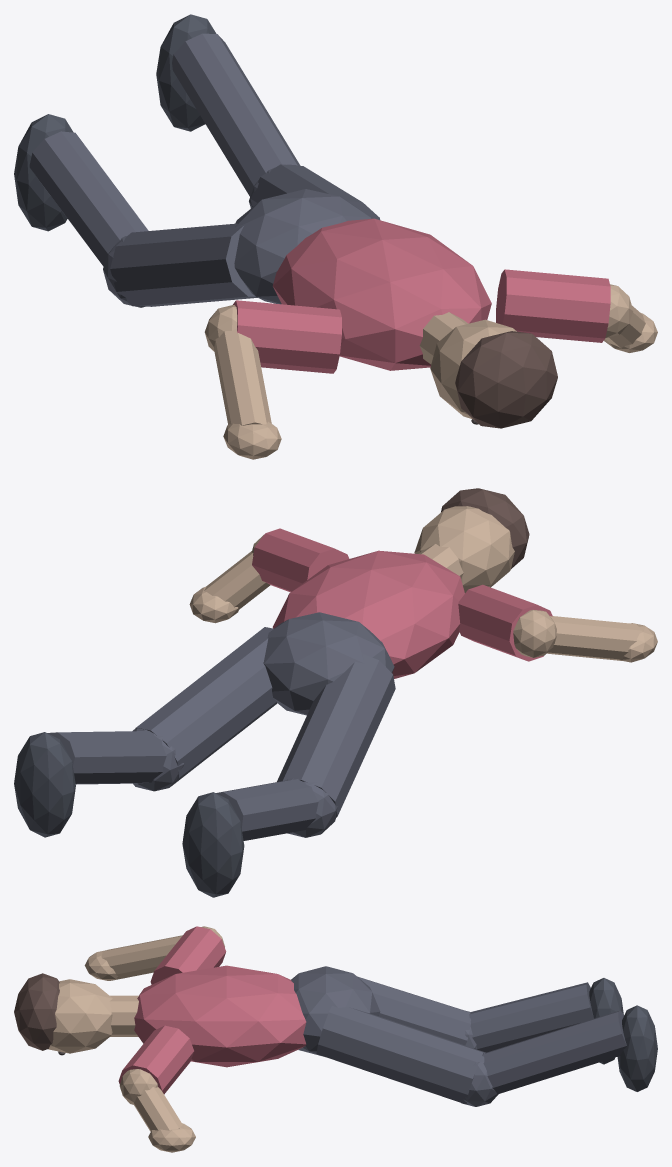
3 renders of one model, top to bottom at view 1: azimuth 30°, elevation 25°; view 2: azimuth 150°, elevation 25°; view 3: azimuth 270°, elevation 25°, orthographic. The views are drawn at different scales.
Visible parts, largest first — view 1: world; view 2: world; view 3: world.
Part boxes in pixels (x1,y1,x2,y2): world: [14, 14, 657, 459]; world: [14, 488, 657, 897]; world: [14, 926, 657, 1152].
Size of the model in its own units: 1.25 by 0.4125 by 2.01.
